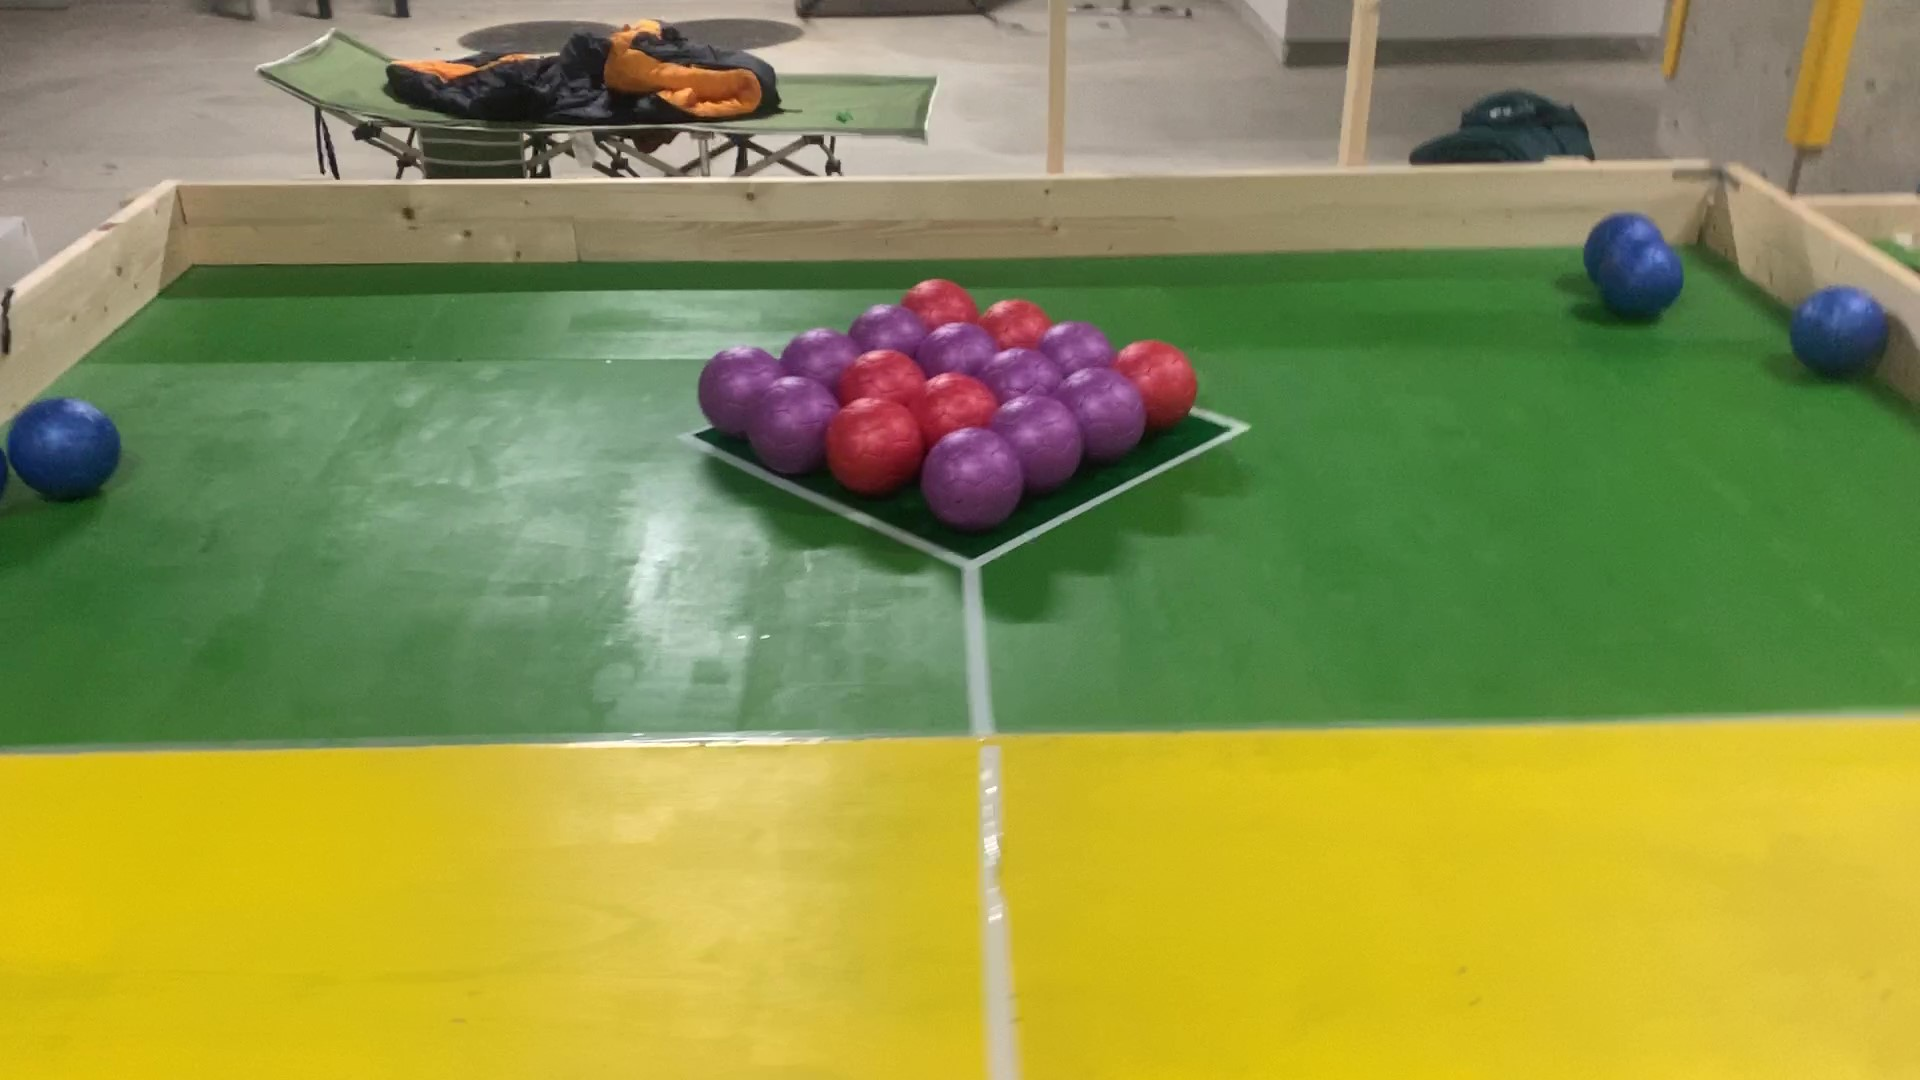blue: (16, 404, 112, 492), (1792, 290, 1882, 361), (1613, 245, 1677, 313), (1601, 219, 1659, 243)
purple: (940, 436, 1013, 518), (764, 384, 820, 467), (1080, 376, 1141, 452), (1013, 404, 1072, 473), (702, 351, 750, 433), (928, 327, 985, 367), (796, 328, 847, 369), (1050, 326, 1105, 363), (861, 310, 918, 345), (1000, 353, 1050, 392), (1124, 376, 1151, 378)
red: (839, 410, 909, 479), (1150, 339, 1195, 415), (924, 382, 990, 422), (858, 353, 914, 394), (914, 278, 968, 316), (990, 305, 1042, 344)
